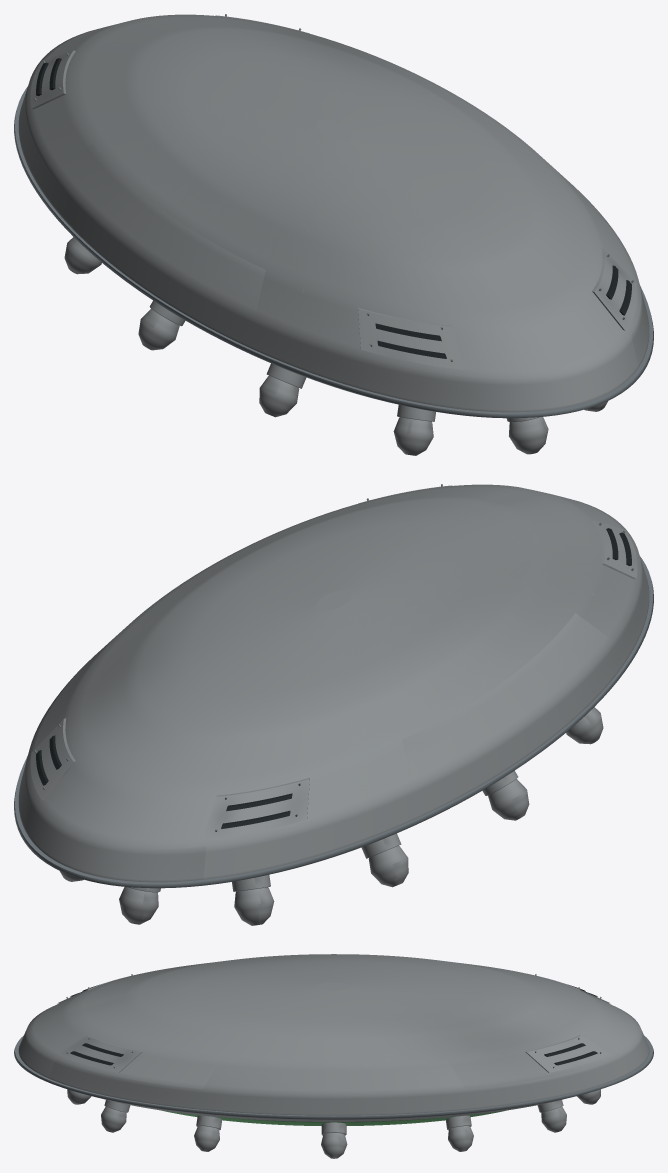
3 views of the same model, one above another, from view 1: azimuth 30°, elevation 25°; view 2: azimuth 150°, elevation 25°; view 3: azimuth 270°, elevation 25° (orthographic). The views are drawn at different scales.
Visible parts, largest first — view 1: Ultimate Mk II silver upper cover, Ultimate Mk II lid seam rim, Ultimate Mk II service cover 0, Ultimate Mk II service cover 1, Ultimate Mk II service cover 3, Ultimate Mk II perimeter fitting 7, Ultimate Mk II perimeter fitting 8, Ultimate Mk II perimeter fitting 6, Ultimate Mk II perimeter fitting 9, Ultimate Mk II perimeter fitting 5; view 2: Ultimate Mk II silver upper cover, Ultimate Mk II lid seam rim, Ultimate Mk II service cover 3, Ultimate Mk II service cover 2, Ultimate Mk II service cover 0, Ultimate Mk II perimeter fitting 5, Ultimate Mk II perimeter fitting 4, Ultimate Mk II perimeter fitting 6, Ultimate Mk II perimeter fitting 3, Ultimate Mk II perimeter fitting 7; view 3: Ultimate Mk II silver upper cover, Ultimate Mk II lid seam rim, Ultimate Mk II service cover 1, Ultimate Mk II service cover 2, Ultimate Mk II green lower body, Ultimate Mk II perimeter fitting 0, Ultimate Mk II perimeter fitting 1, Ultimate Mk II perimeter fitting 11, Ultimate Mk II perimeter fitting 10, Ultimate Mk II perimeter fitting 2.
Boxes of the visible parts, left/top/right/bottom form: Ultimate Mk II silver upper cover: left=18, top=14, right=649, bottom=412; Ultimate Mk II lid seam rim: left=14, top=86, right=653, bottom=418; Ultimate Mk II service cover 0: left=358, top=307, right=465, bottom=369; Ultimate Mk II service cover 1: left=592, top=248, right=637, bottom=330; Ultimate Mk II service cover 3: left=30, top=50, right=75, bottom=109; Ultimate Mk II perimeter fitting 7: left=259, top=375, right=299, bottom=417; Ultimate Mk II perimeter fitting 8: left=393, top=417, right=433, bottom=455; Ultimate Mk II perimeter fitting 6: left=138, top=309, right=179, bottom=350; Ultimate Mk II perimeter fitting 9: left=509, top=417, right=548, bottom=454; Ultimate Mk II perimeter fitting 5: left=64, top=237, right=101, bottom=274; Ultimate Mk II silver upper cover: left=18, top=484, right=649, bottom=882; Ultimate Mk II lid seam rim: left=14, top=556, right=653, bottom=888; Ultimate Mk II service cover 3: left=202, top=777, right=309, bottom=839; Ultimate Mk II service cover 2: left=30, top=718, right=75, bottom=800; Ultimate Mk II service cover 0: left=592, top=520, right=637, bottom=579; Ultimate Mk II perimeter fitting 5: left=368, top=845, right=408, bottom=887; Ultimate Mk II perimeter fitting 4: left=234, top=887, right=274, bottom=925; Ultimate Mk II perimeter fitting 6: left=488, top=779, right=529, bottom=820; Ultimate Mk II perimeter fitting 3: left=119, top=887, right=158, bottom=924; Ultimate Mk II perimeter fitting 7: left=566, top=707, right=603, bottom=744; Ultimate Mk II silver upper cover: left=18, top=954, right=649, bottom=1121; Ultimate Mk II lid seam rim: left=14, top=1035, right=653, bottom=1119; Ultimate Mk II service cover 1: left=57, top=1035, right=142, bottom=1072; Ultimate Mk II service cover 2: left=525, top=1035, right=610, bottom=1072; Ultimate Mk II green lower body: left=162, top=1110, right=505, bottom=1125; Ultimate Mk II perimeter fitting 0: left=321, top=1133, right=347, bottom=1158; Ultimate Mk II perimeter fitting 1: left=448, top=1126, right=473, bottom=1151; Ultimate Mk II perimeter fitting 11: left=194, top=1126, right=219, bottom=1151; Ultimate Mk II perimeter fitting 10: left=101, top=1106, right=126, bottom=1132; Ultimate Mk II perimeter fitting 2: left=541, top=1106, right=566, bottom=1132.
Size of the model in its own units: 2.12 by 0.8831 by 4.35.
Materials: 4 (2 with a texture image).
